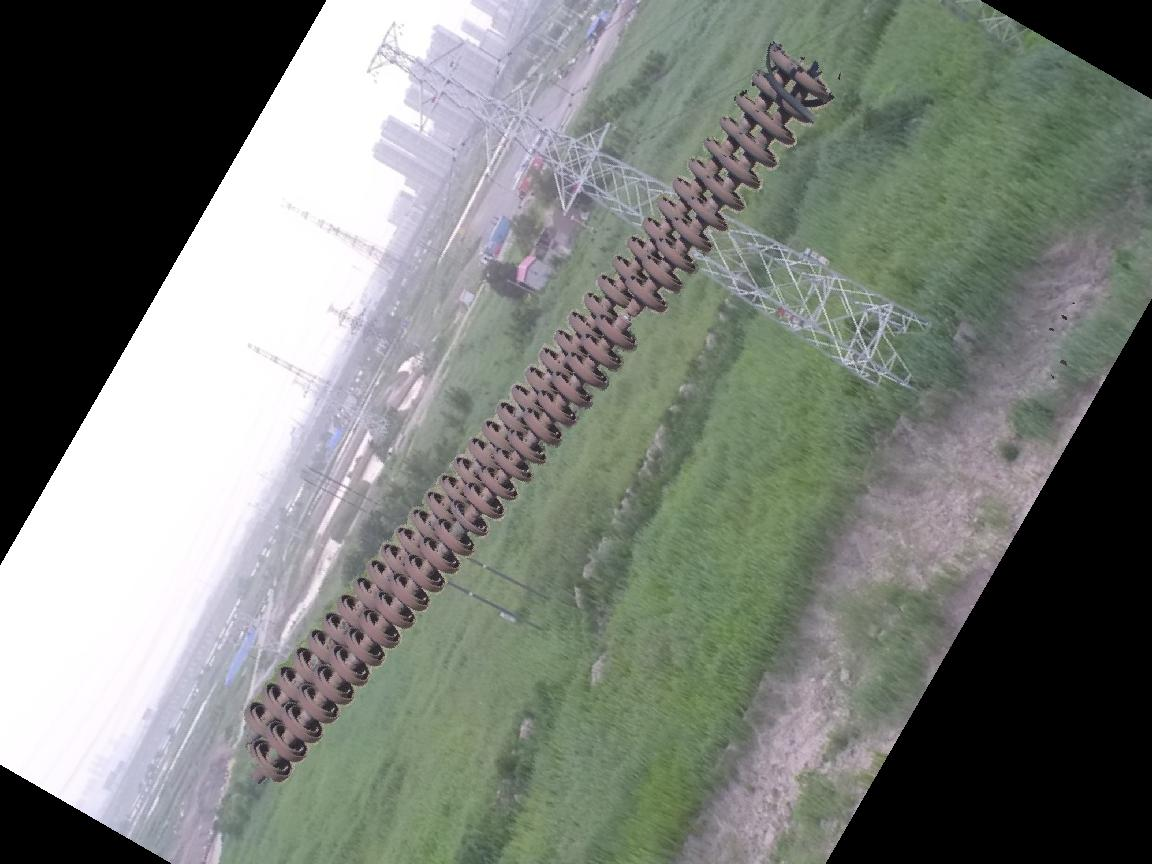insulator: (239, 37, 838, 792)
insulator_stringdrop: (588, 275, 668, 354)
